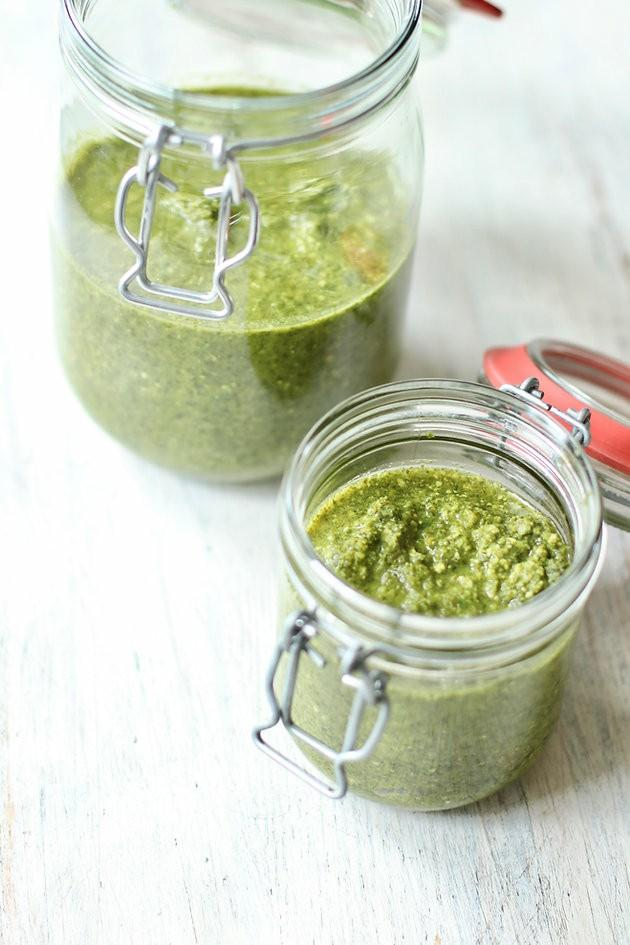GreenChutney: (48, 84, 415, 483), (276, 459, 577, 809)
